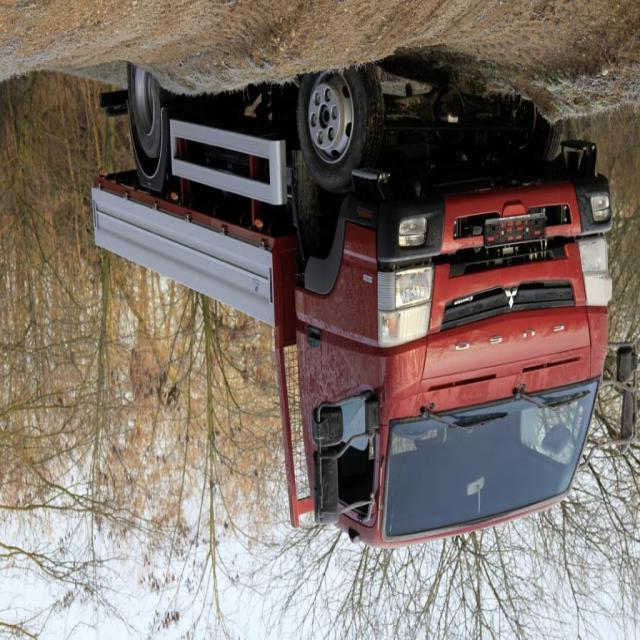truck: (91, 57, 636, 544)
